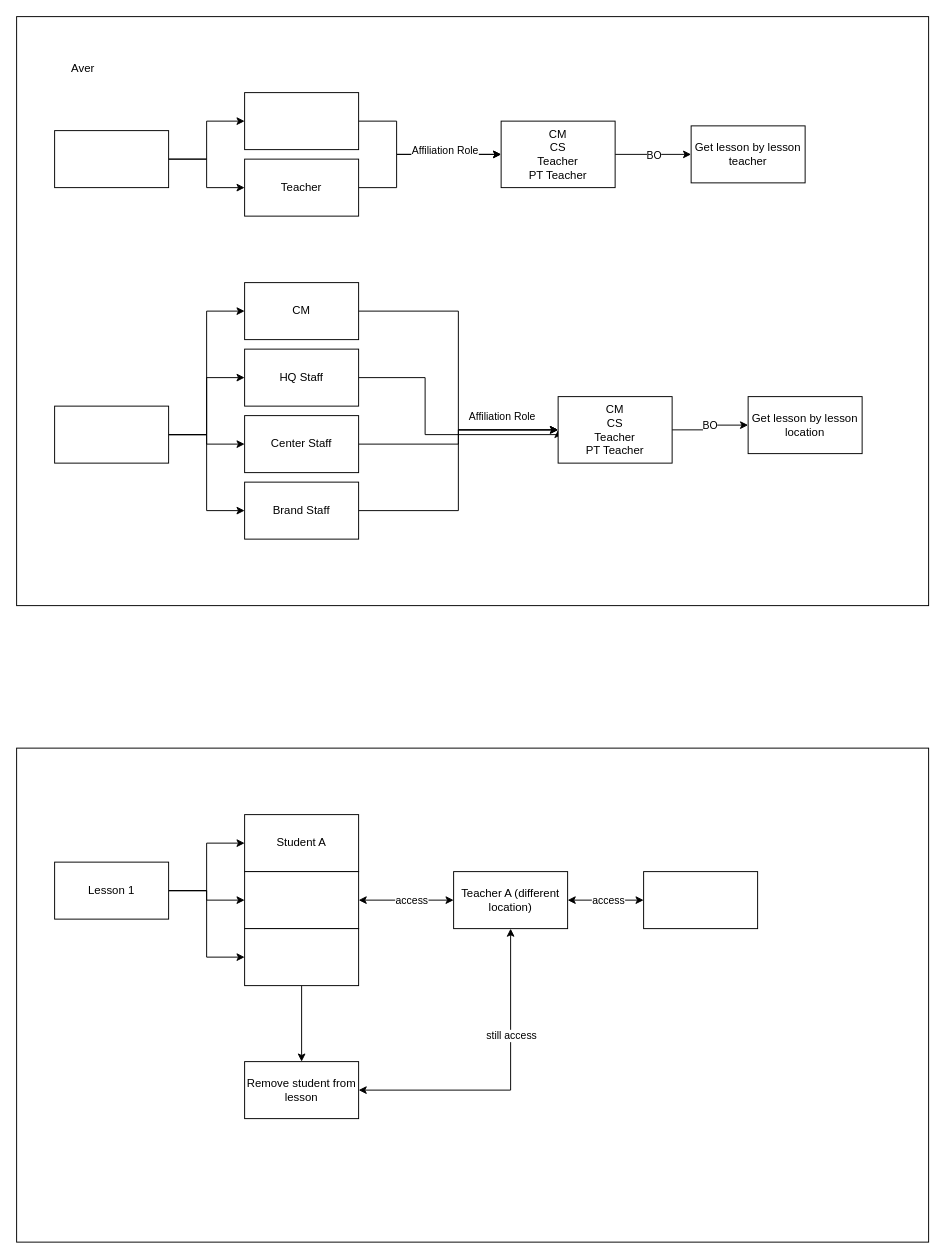
This 945x1259 diagram has some shape labels left out. The shapes that lost their labels are listed below. From the top down, each one's centre as x and y in pixels, then its label:
pixel 301 121: PT Teacher
pixel 111 159: CPU
pixel 111 434: SPU
pixel 301 900: Student B
pixel 700 900: Student D
pixel 301 957: Student C
